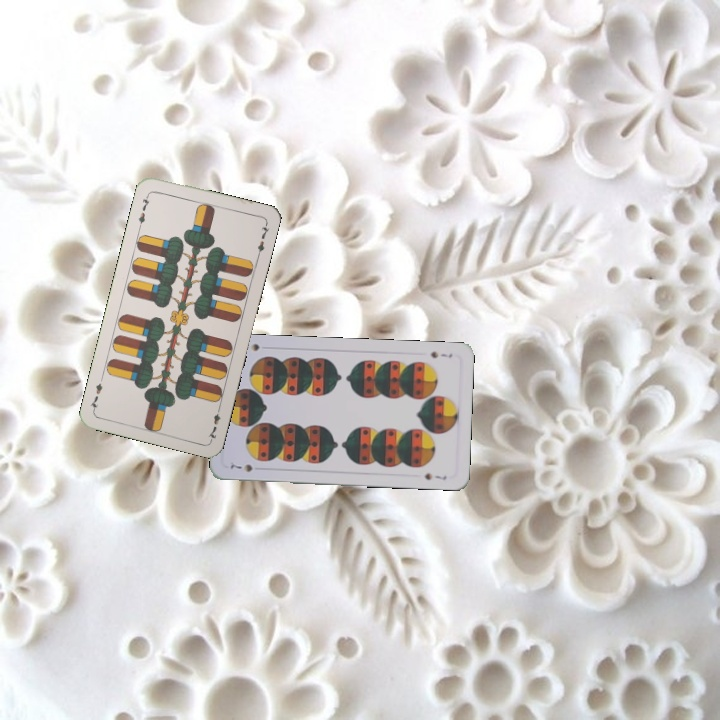E7: (204, 402, 223, 442), (134, 190, 152, 230)
S7: (226, 460, 255, 474), (427, 347, 455, 361)
